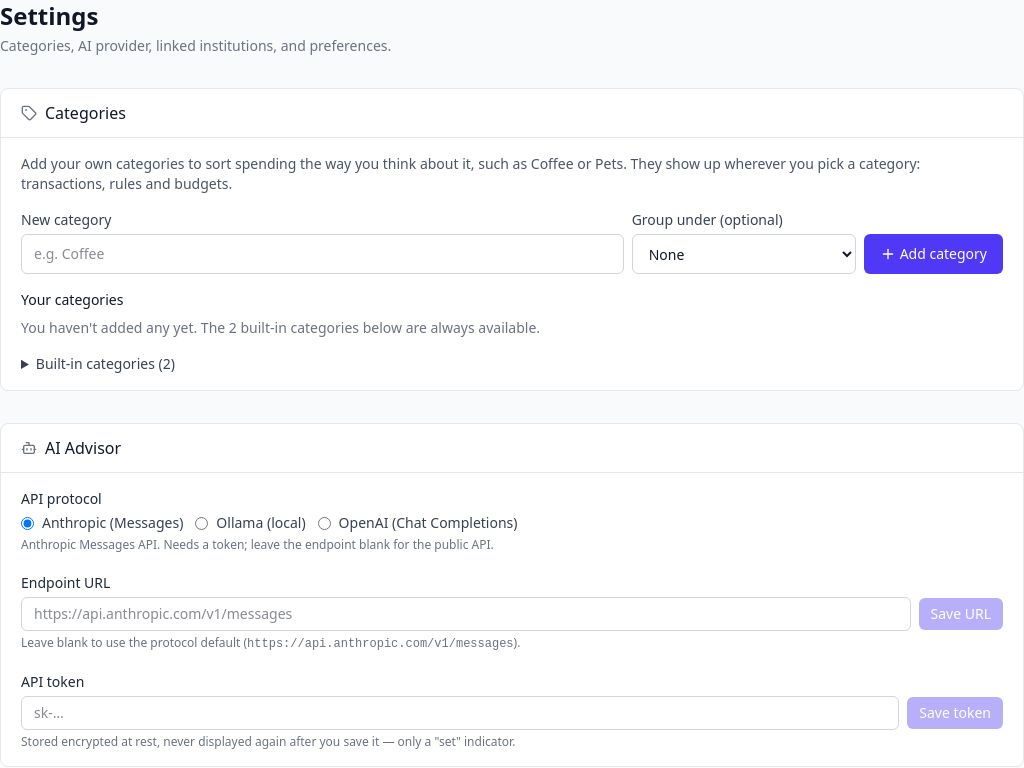
Test case: SettingsPage categories › asks for a name instead of posting a blank one
expect the text "You haven't added any yet" is shown: met, box [21,318,229,337]
Click the button "Add category".
click(933, 254)  # box [864,234,1003,274]
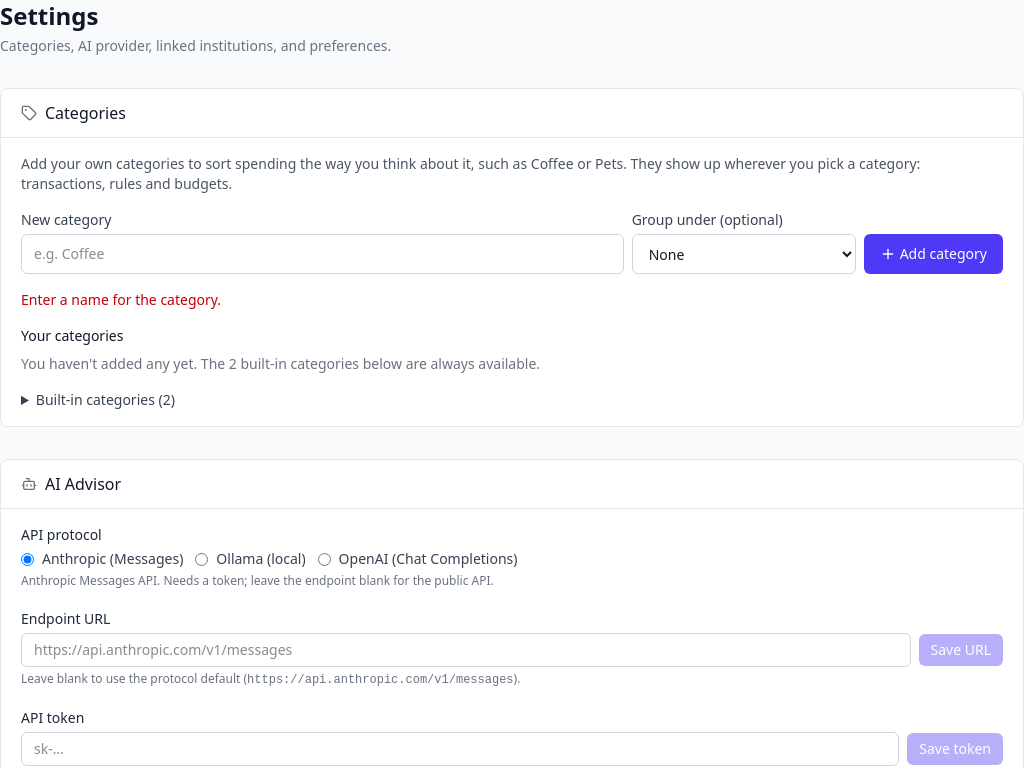
expect the message reads "Enter a name for the category.": met, box [21,290,221,309]
